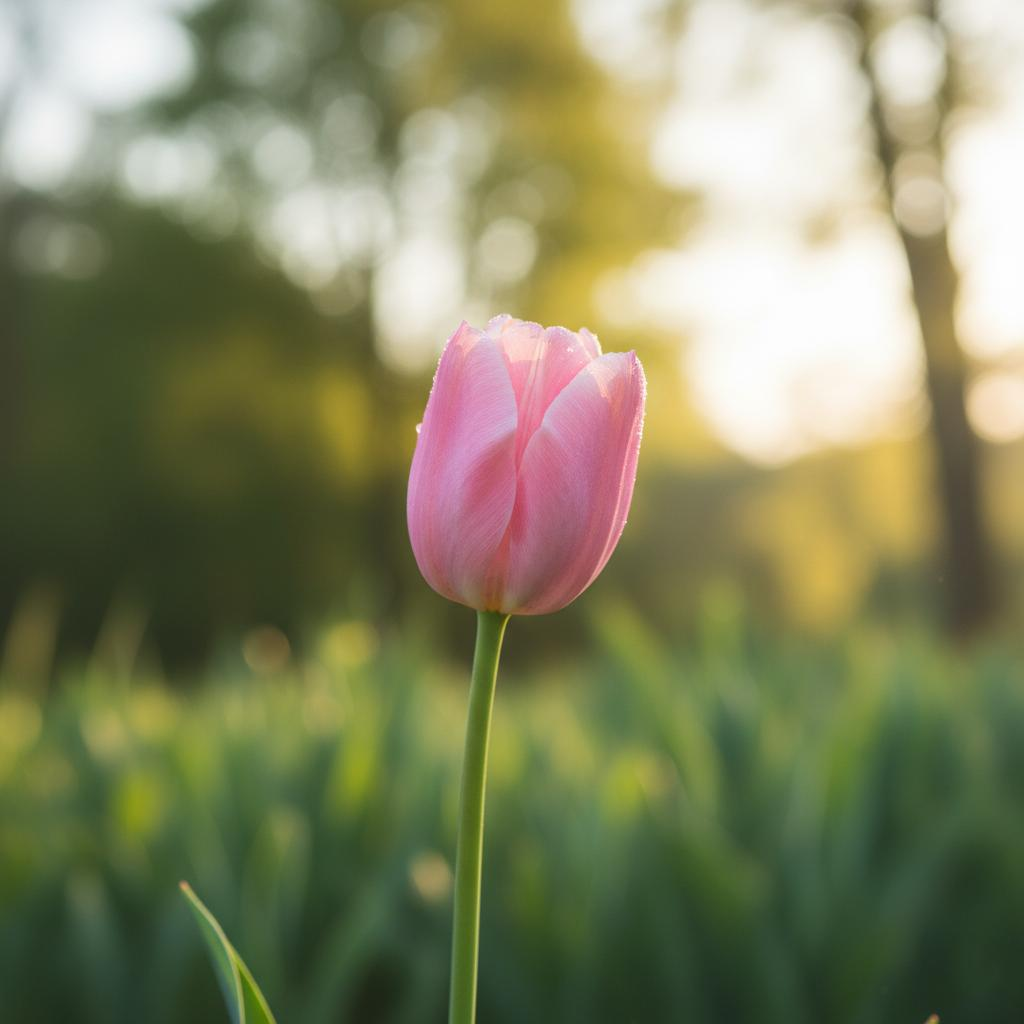tulip: (404, 311, 647, 618)
